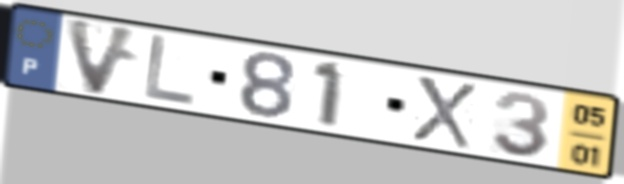1: (309, 59, 345, 132)
3: (490, 90, 556, 160)
8: (236, 50, 299, 122)
L: (140, 31, 199, 110)
V: (62, 15, 145, 100)
X: (408, 72, 479, 153)
